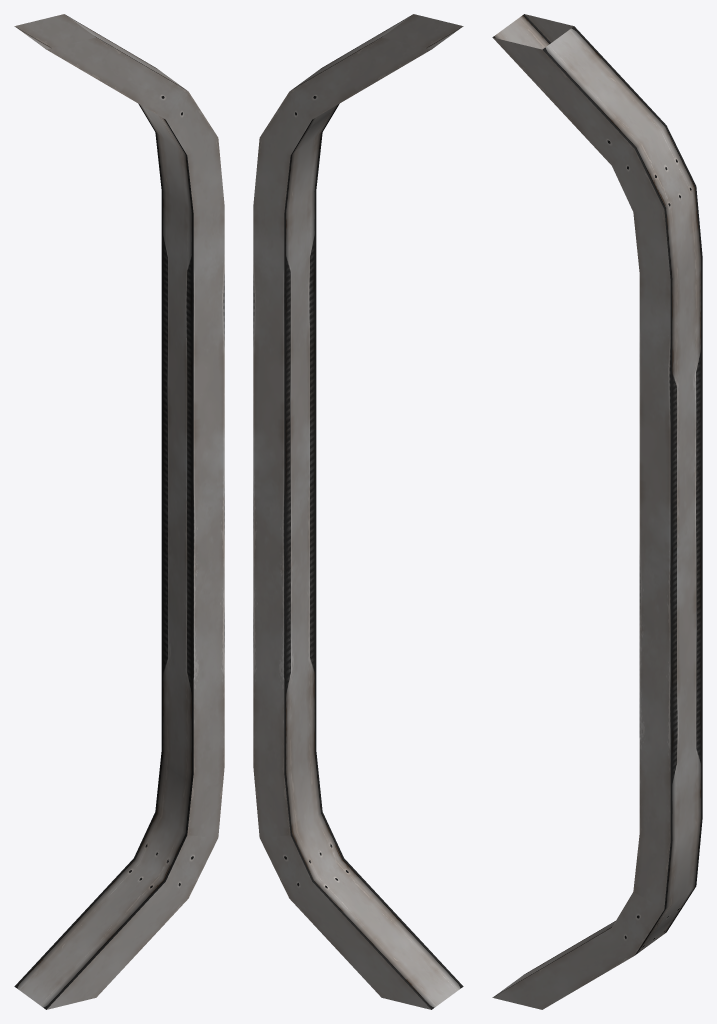
Rendered from Beam_F_01.fbx.
3 renders of one model, left to right at view 1: azimuth 30°, elevation 25°; view 2: azimuth 150°, elevation 25°; view 3: azimuth 330°, elevation 25°, orthographic.
Visible parts, largest first — view 1: Beam_F_01; view 2: Beam_F_01; view 3: Beam_F_01.
Boxes of the visible parts, x1,y1,x2,y2 form: Beam_F_01: (14, 14, 224, 1009); Beam_F_01: (253, 14, 463, 1009); Beam_F_01: (492, 14, 702, 1009).
Size of the model in its own units: 77.78 by 400 by 24.17.
1 material, 1 textured.
